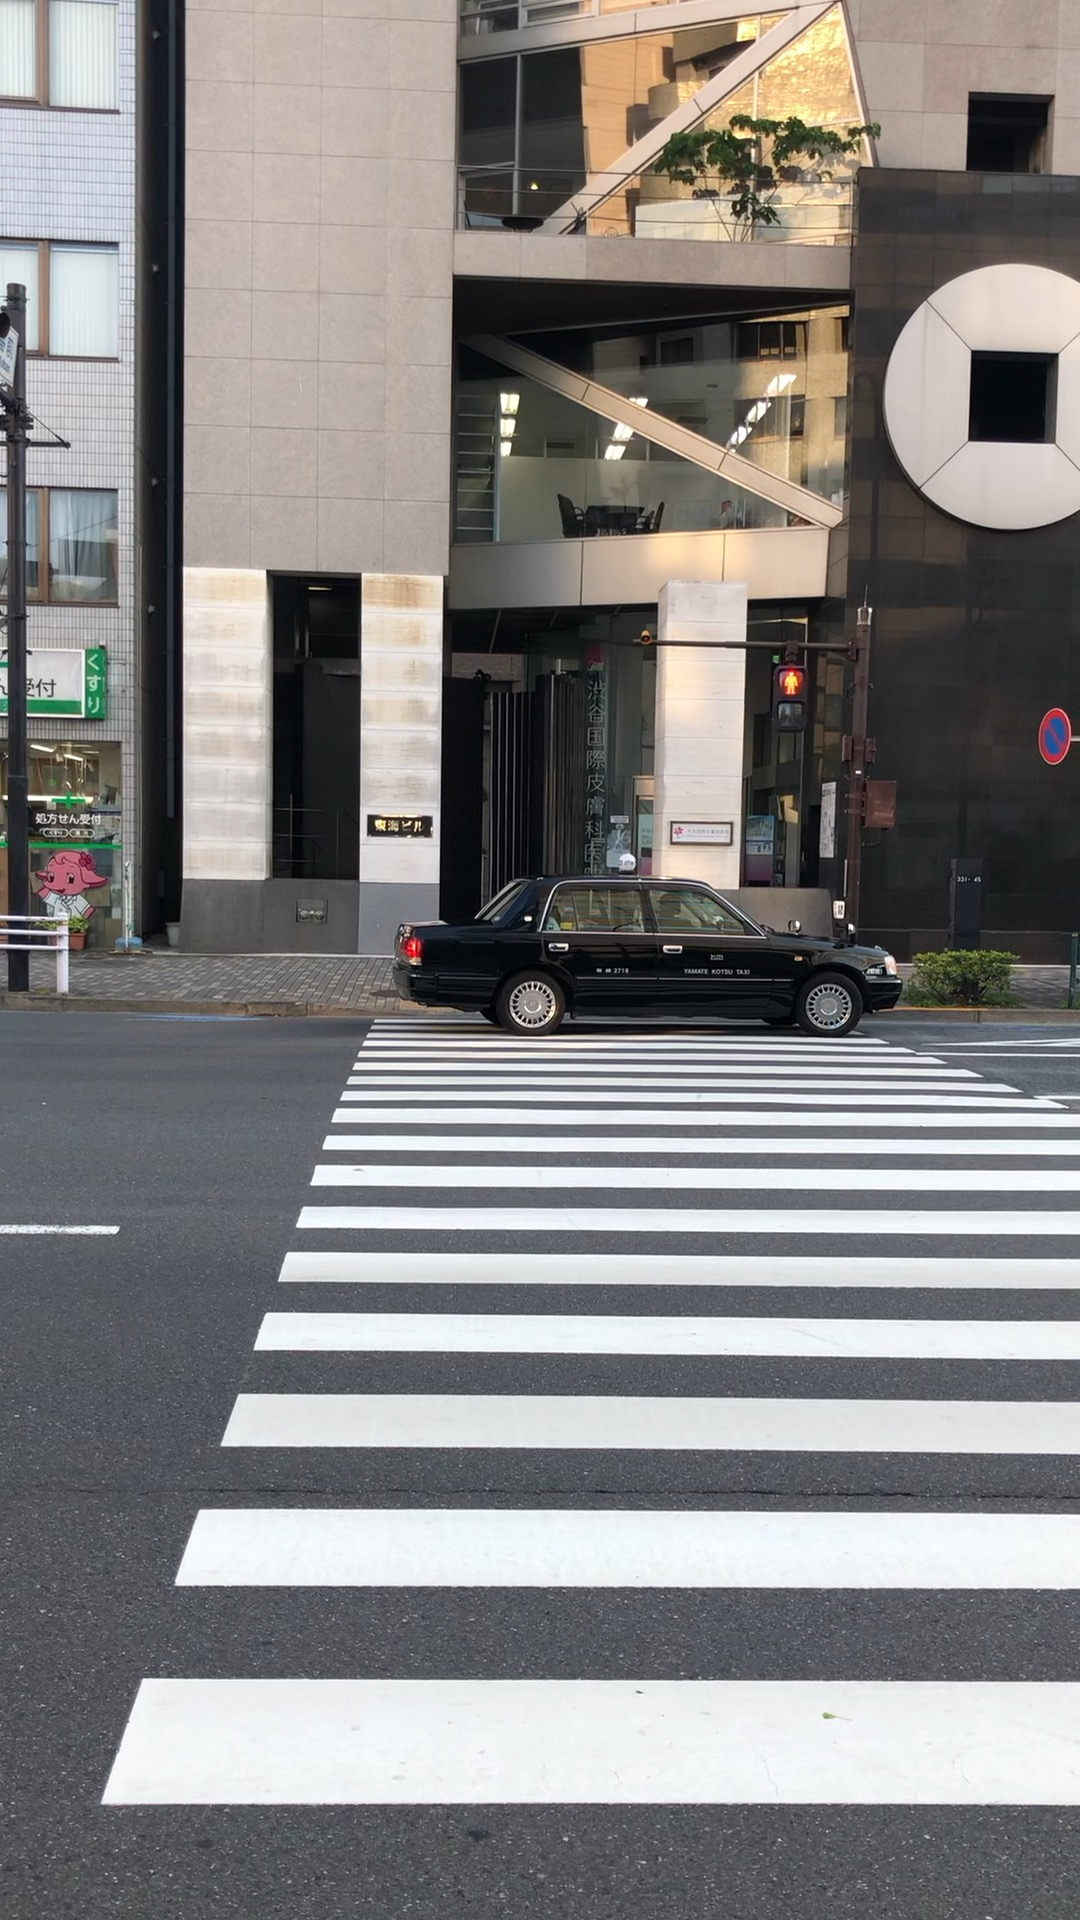red: (771, 665, 808, 733)
